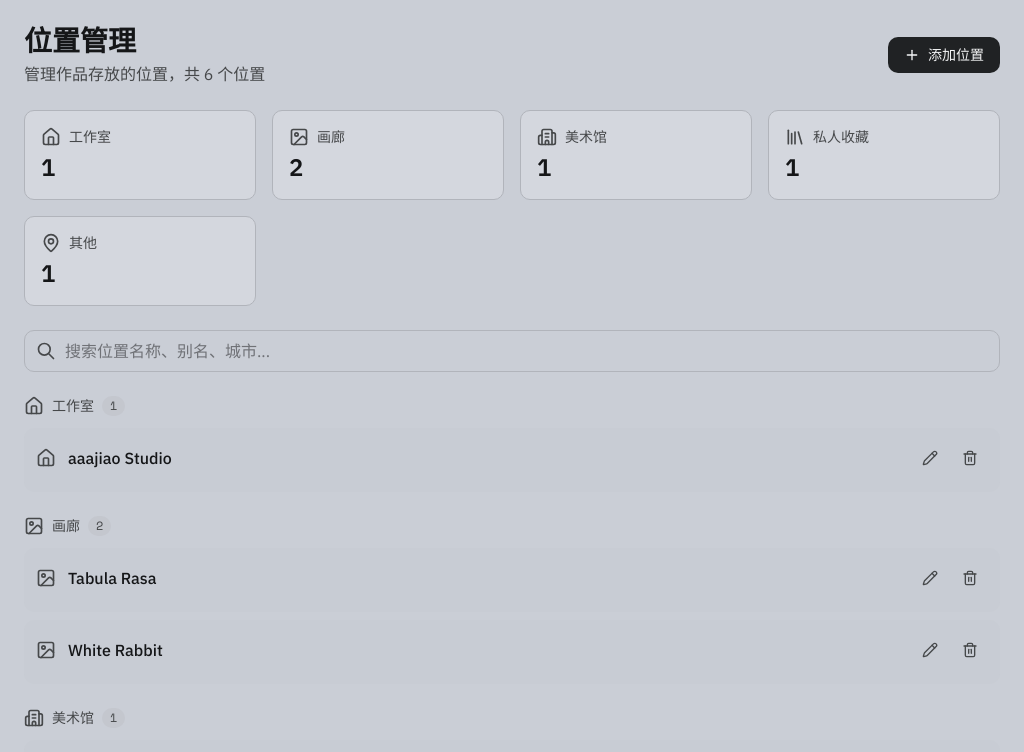
Locations 页面 — 顶部分类卡 filter › 点 chip A 再点 chip B → 直接切到 B（不是关闭再开）
The image size is (1024, 752).
Click the button "画廊 2": (388, 155) left=272, top=110, right=504, bottom=200
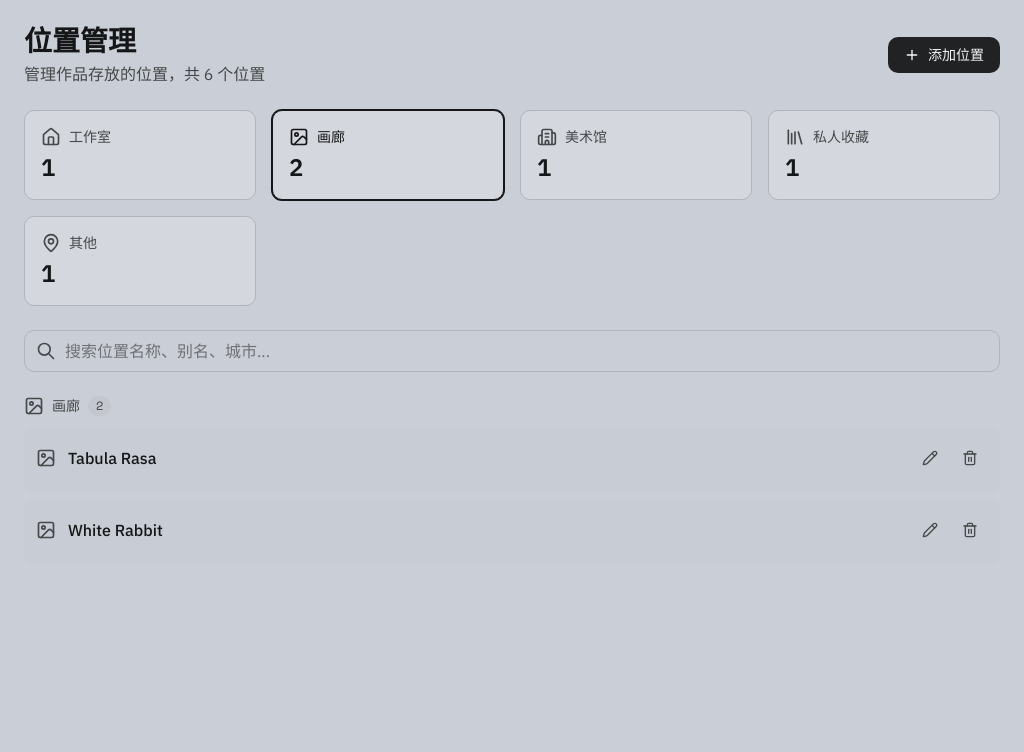
Now the button "画廊 2" is pressed, box left=272, top=110, right=504, bottom=200
Click the button "美术馆 1": (636, 155) left=520, top=110, right=752, bottom=200
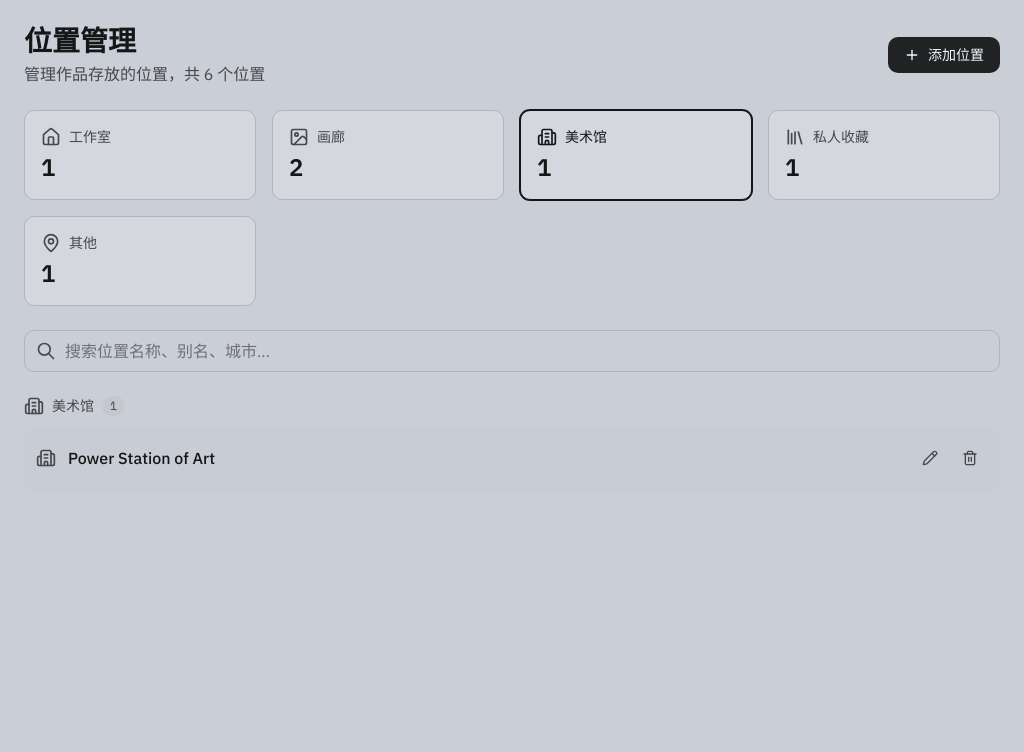
Now the text "Power Station of Art" is shown, box left=68, top=448, right=215, bottom=468
Now the text "Tabula Rasa" is gone
